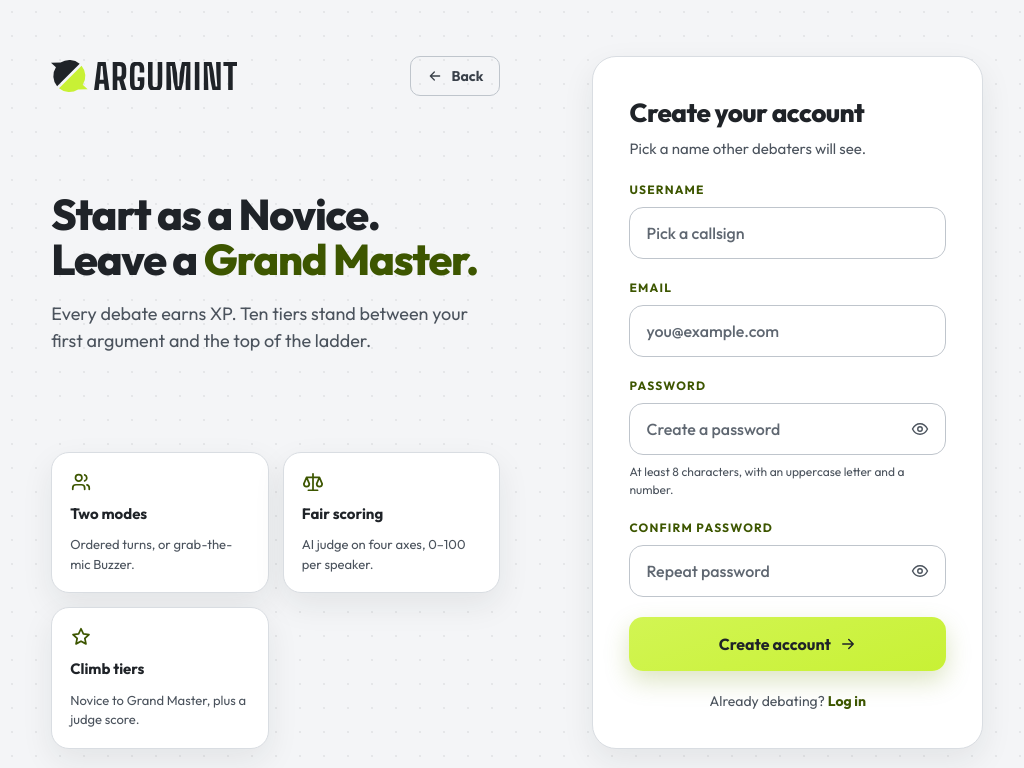
Test: Register › page structure › shows the password rules hint until a password error replaces it
The width and height of the screenshot is (1024, 768).
expect the text "At least 8 characters, with an uppercase letter and a number." is shown: met, box [630,462,946,498]
Type "aliceXYZ" into the field with placeholder "Pick a callsign" at [788, 232], box [630,206,946,258]
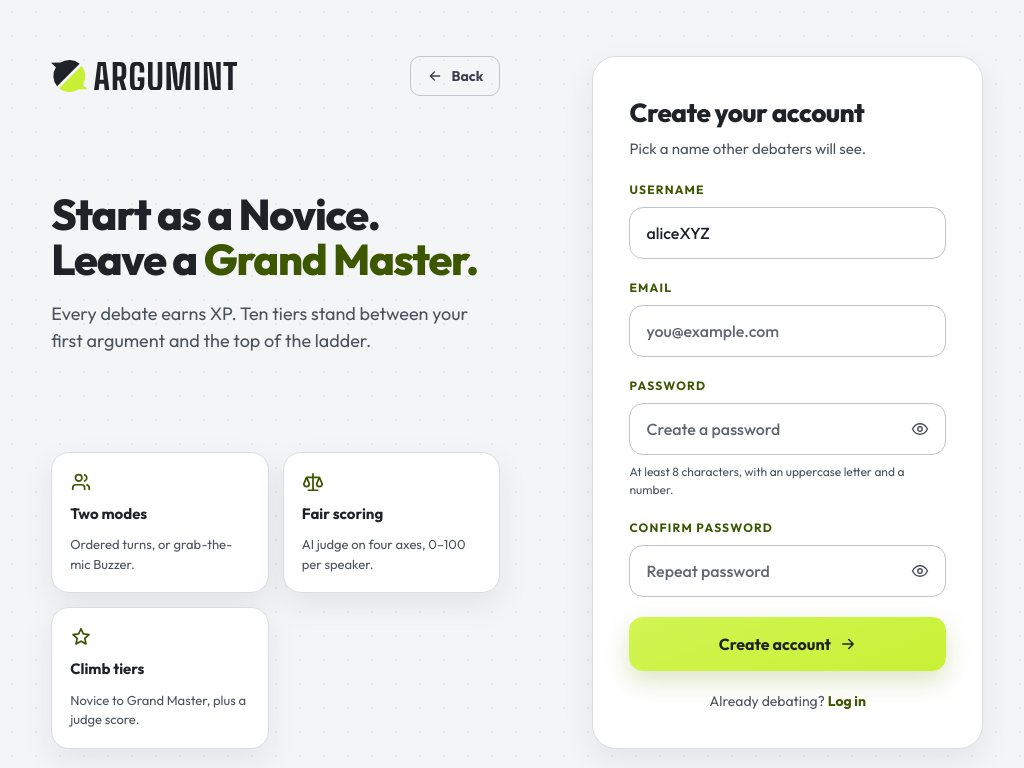
Type "alice@example.com" into the field with placeholder "you@example.com" at [788, 330], box [630,304,946,356]
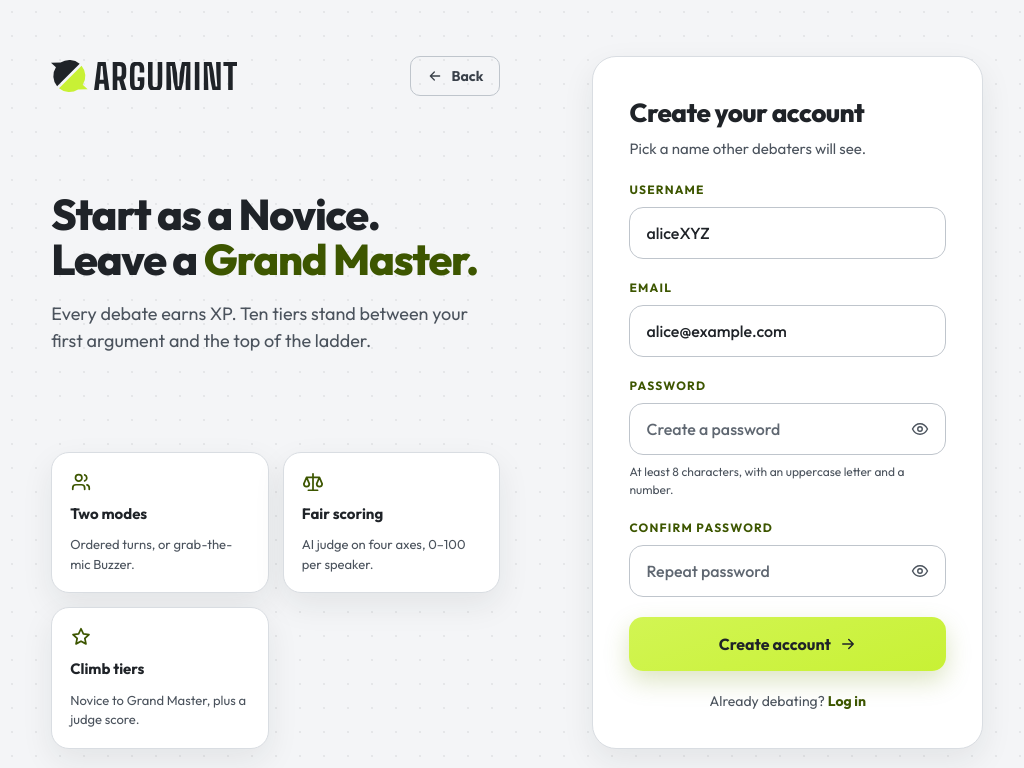
Type "Ab1" into the password field with placeholder "Create a password" at [788, 428], box [630,402,946,454]
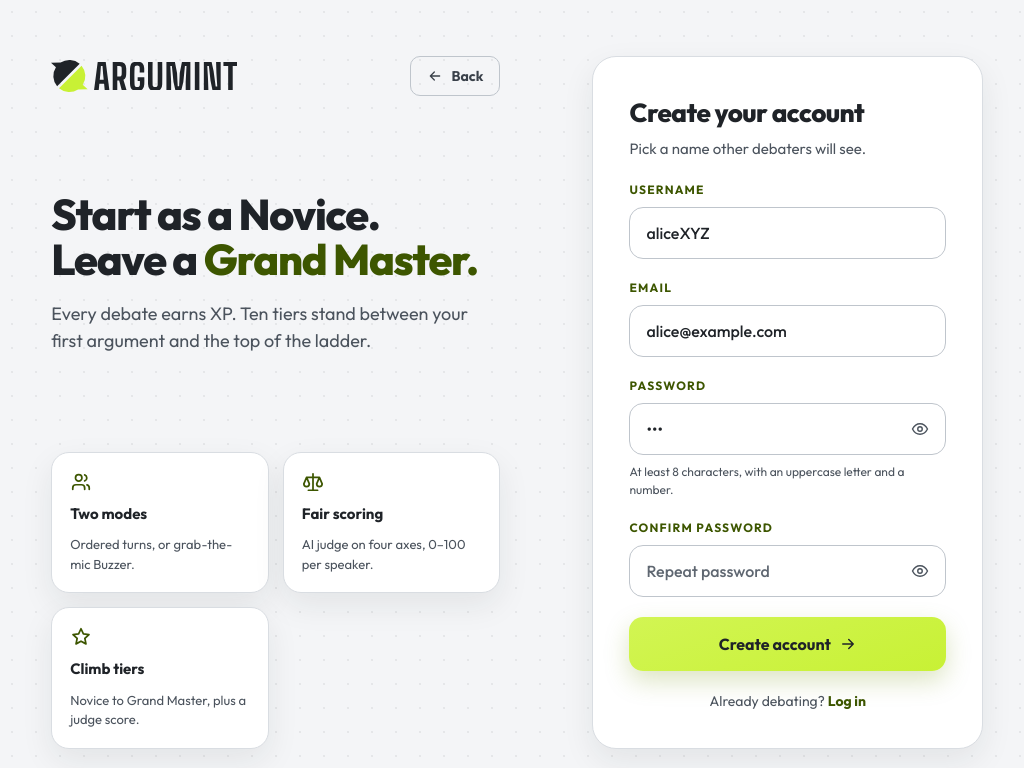
Type "Ab1" into the password field with placeholder "Repeat password" at [788, 570], box [630,544,946,596]
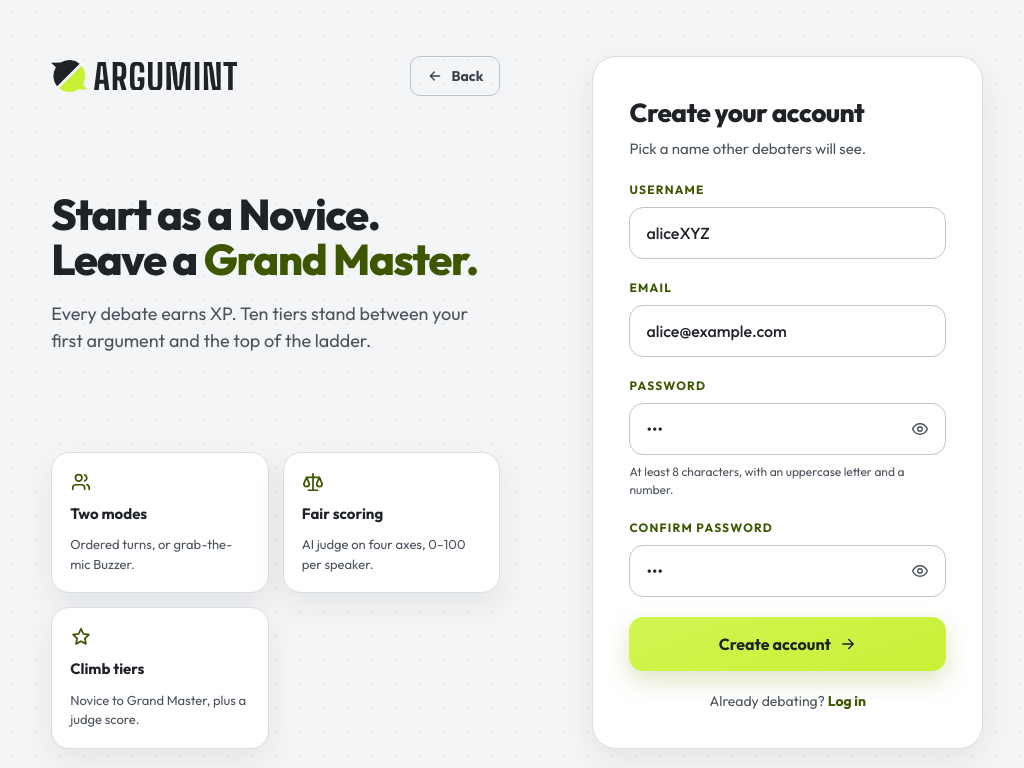
Click the button "Create account" at [788, 644], box [630,616,946,670]
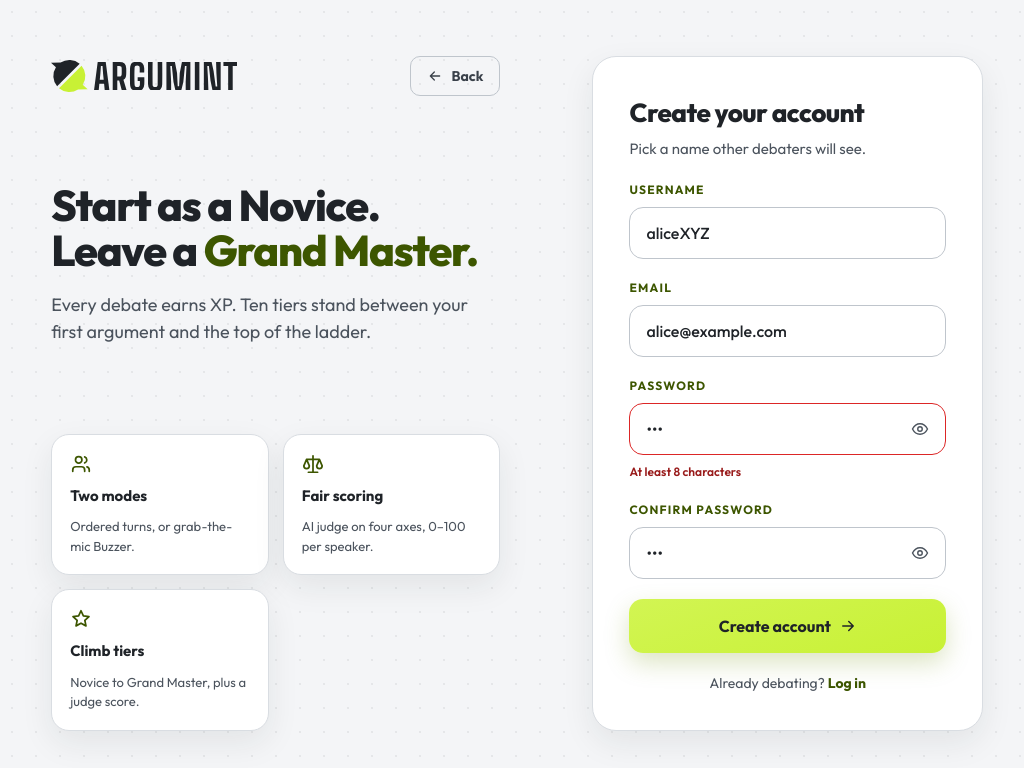
expect the text "At least 8 characters" is shown: met, box [630,464,741,478]
expect the text "At least 8 characters, with an uppercase letter and a number." is gone: met
